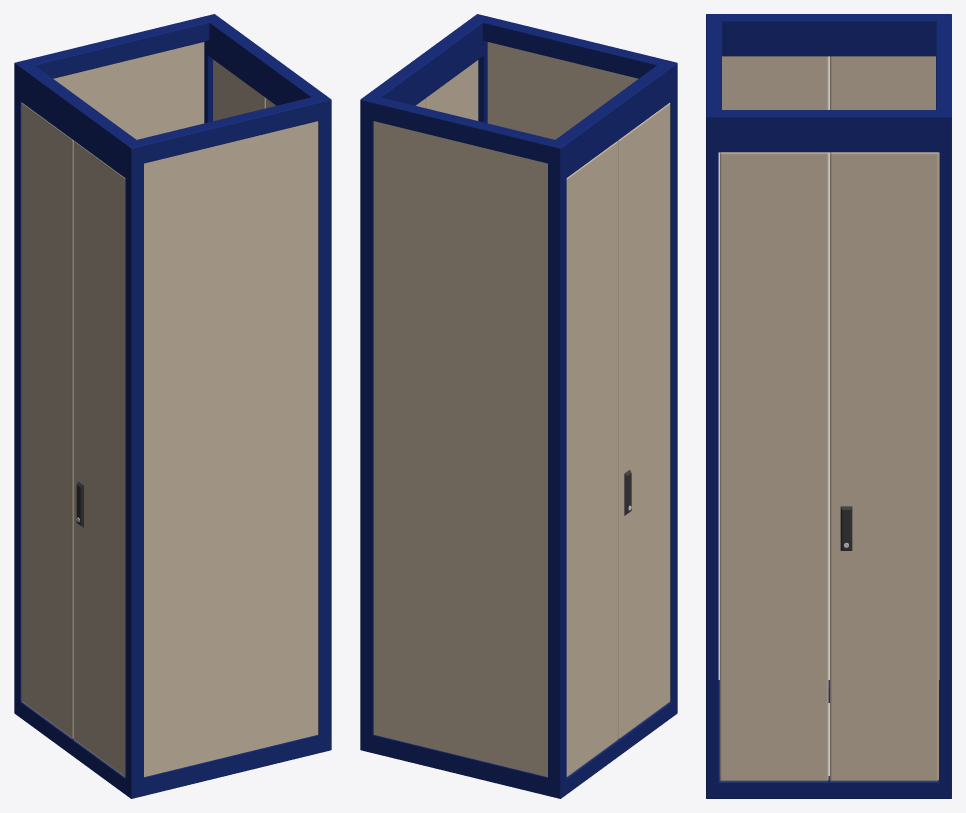
3 renders of one model, left to right at view 1: azimuth 30°, elevation 25°; view 2: azimuth 150°, elevation 25°; view 3: azimuth 270°, elevation 25°, orthographic. The views are drawn at different scales.
Visible parts, largest first — view 1: Rectangle8265; view 2: Rectangle8265; view 3: Rectangle8265.
Part boxes in pixels (x1=…): Rectangle8265: x1=14, y1=14, x2=331, y2=798; Rectangle8265: x1=360, y1=14, x2=677, y2=798; Rectangle8265: x1=706, y1=14, x2=951, y2=798.
Bounding box in the file's own units: 828 × 2501 × 816.
